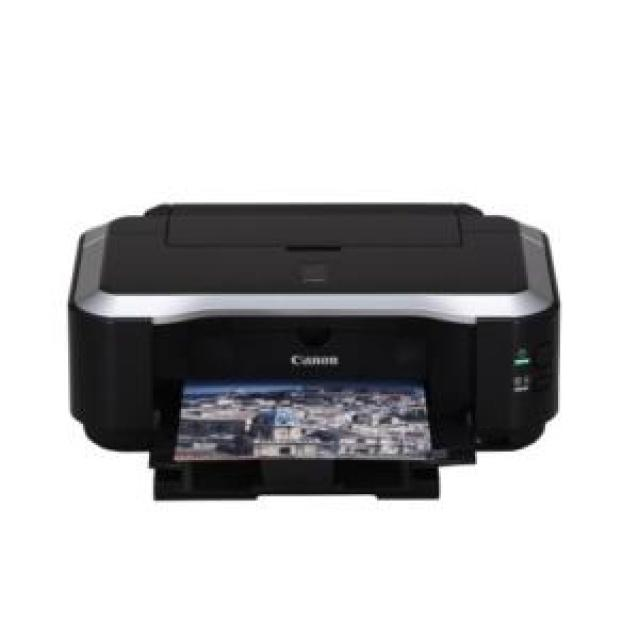Printer: (70, 204, 558, 503)
